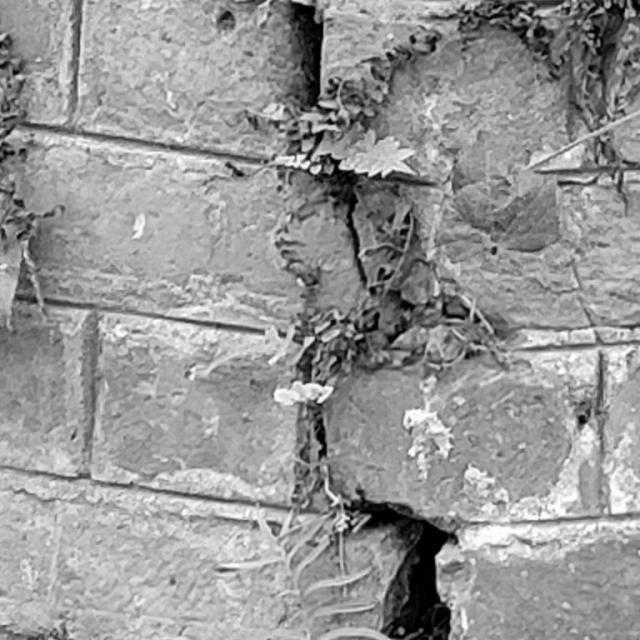crack: (285, 1, 461, 640)
